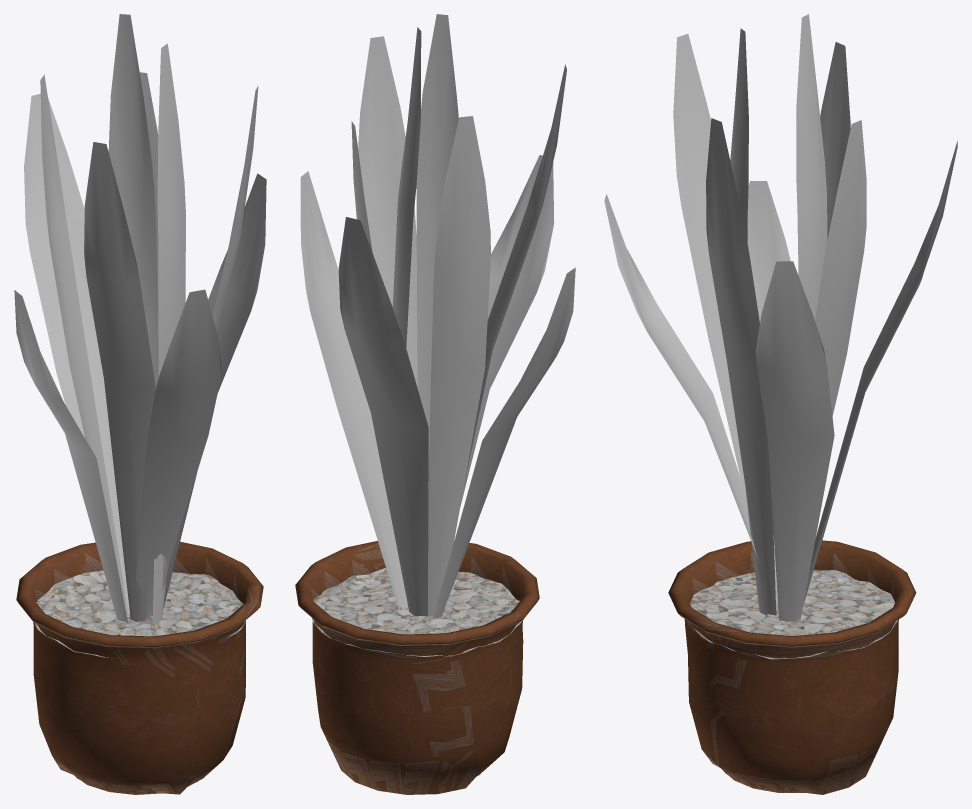
Rendered from Gorshok_1.fbx.
The picture shows the model from 3 angles, left to right: view 1: azimuth 30°, elevation 25°; view 2: azimuth 150°, elevation 25°; view 3: azimuth 270°, elevation 25°; orthographic projection.
Visible parts, largest first — view 1: Gorshok.001, List.005, List.001, List, List.008, Ground, List.009, List.006, List.002, List.003, List.007, List.004; view 2: Gorshok.001, List.006, List, List.003, List.007, List.009, Ground, List.002, List.001, List.008, List.005, List.004; view 3: Gorshok.001, List.003, List.007, List.005, Ground, List.004, List.008, List.001, List, List.006, List.002, List.009.
Part boxes in pixels (x1=…): Gorshok.001: x1=16, y1=541, x2=263, y2=794; List.005: x1=84, y1=142, x2=155, y2=621; List.001: x1=136, y1=289, x2=221, y2=617; List: x1=24, y1=93, x2=129, y2=613; List.008: x1=108, y1=14, x2=158, y2=617; Ground: x1=35, y1=570, x2=245, y2=658; List.009: x1=152, y1=43, x2=185, y2=623; List.006: x1=40, y1=74, x2=128, y2=615; List.002: x1=14, y1=290, x2=127, y2=622; List.003: x1=163, y1=173, x2=266, y2=608; List.007: x1=152, y1=86, x2=258, y2=622; List.004: x1=139, y1=72, x2=158, y2=378; Gorshok.001: x1=295, y1=541, x2=539, y2=794; List.006: x1=428, y1=116, x2=490, y2=616; List: x1=338, y1=217, x2=428, y2=616; List.003: x1=300, y1=171, x2=407, y2=610; List.007: x1=358, y1=36, x2=417, y2=388; List.009: x1=416, y1=14, x2=458, y2=487; Ground: x1=312, y1=568, x2=523, y2=656; List.002: x1=433, y1=267, x2=575, y2=618; List.001: x1=460, y1=155, x2=554, y2=506; List.008: x1=392, y1=27, x2=421, y2=347; List.005: x1=464, y1=64, x2=566, y2=483; List.004: x1=351, y1=121, x2=372, y2=252; Gorshok.001: x1=668, y1=540, x2=916, y2=794; List.003: x1=756, y1=261, x2=834, y2=621; List.007: x1=706, y1=118, x2=776, y2=615; List.005: x1=673, y1=34, x2=777, y2=590; Ground: x1=690, y1=570, x2=897, y2=659; List.004: x1=815, y1=120, x2=866, y2=416; List.008: x1=776, y1=14, x2=827, y2=613; List.001: x1=604, y1=194, x2=778, y2=610; List: x1=803, y1=141, x2=957, y2=604; List.006: x1=820, y1=42, x2=850, y2=239; List.002: x1=747, y1=181, x2=790, y2=322; List.009: x1=730, y1=28, x2=767, y2=615.
Bounding box in the file's own units: 38.5 × 107 × 46.02.
